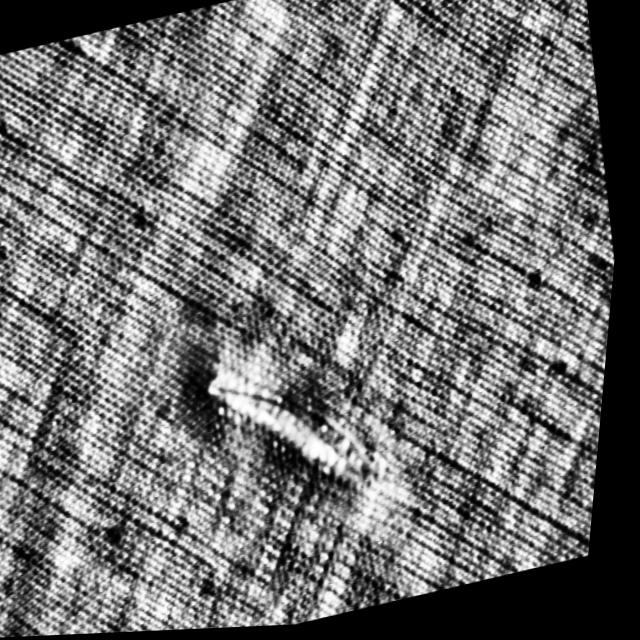Hole: (172, 324, 407, 528)
